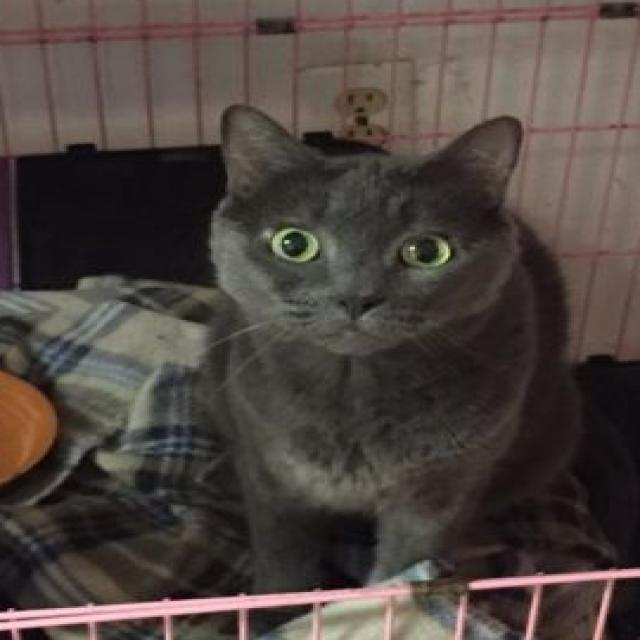Russian Blue: (199, 99, 588, 593)
